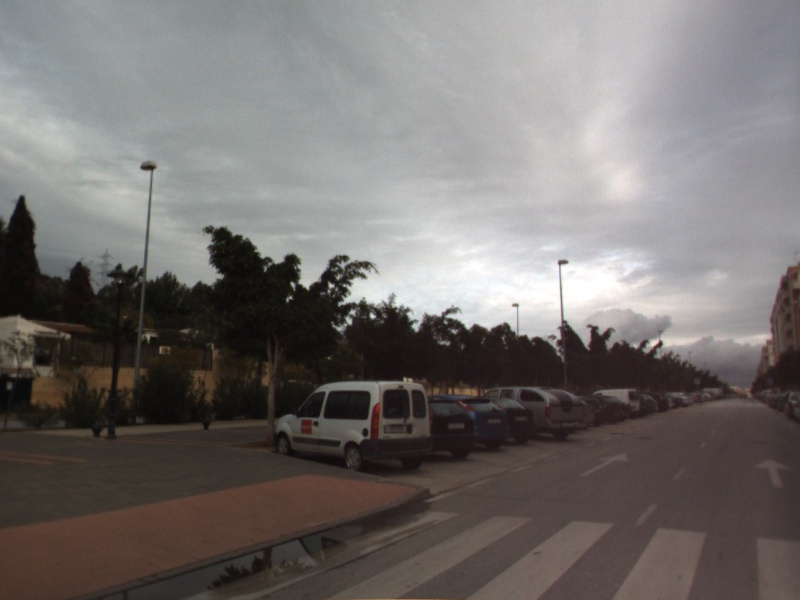STRAIGHT: (577, 450, 631, 478), (752, 457, 794, 490)
